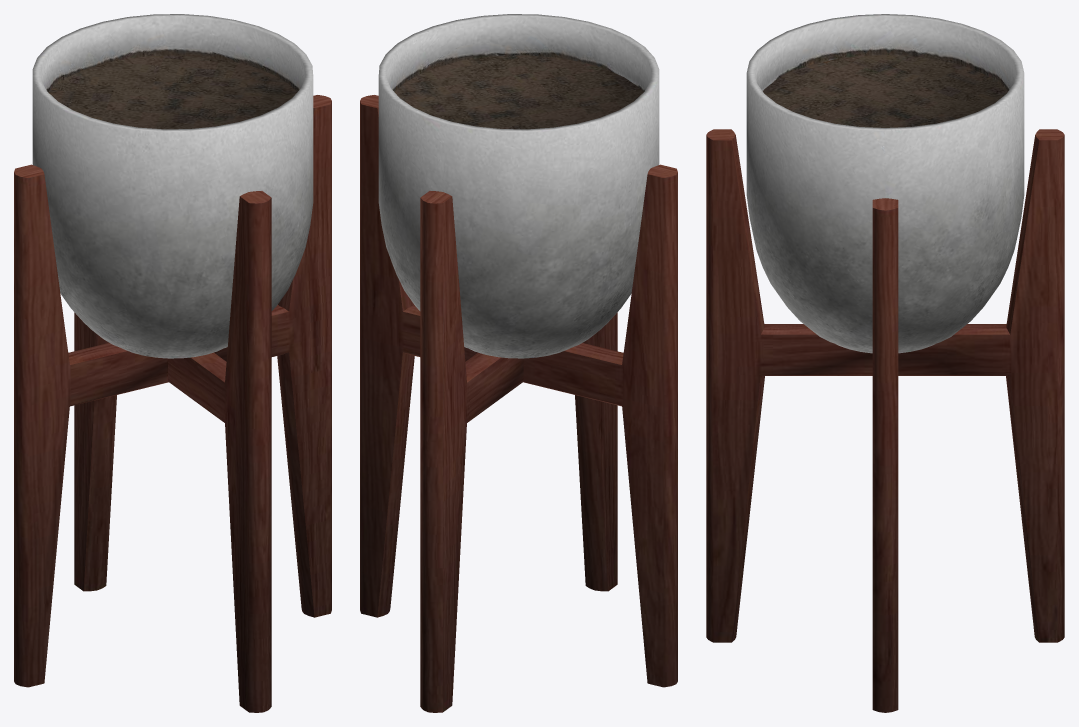
Rendered from Little_Plant_Static.glb.
3 views of the same model, side by side, from view 1: azimuth 30°, elevation 25°; view 2: azimuth 150°, elevation 25°; view 3: azimuth 270°, elevation 25° (orthographic).
Visible parts, largest first — view 1: Little_Plant_Static; view 2: Little_Plant_Static; view 3: Little_Plant_Static.
Part boxes in pixels (<box>): Little_Plant_Static: <box>14,14,331,712</box>; Little_Plant_Static: <box>360,14,677,712</box>; Little_Plant_Static: <box>706,14,1064,712</box>.
Bounding box in the file's own units: 0.3727 × 0.6475 × 0.3727.
Materials: 1 (1 with a texture image).
